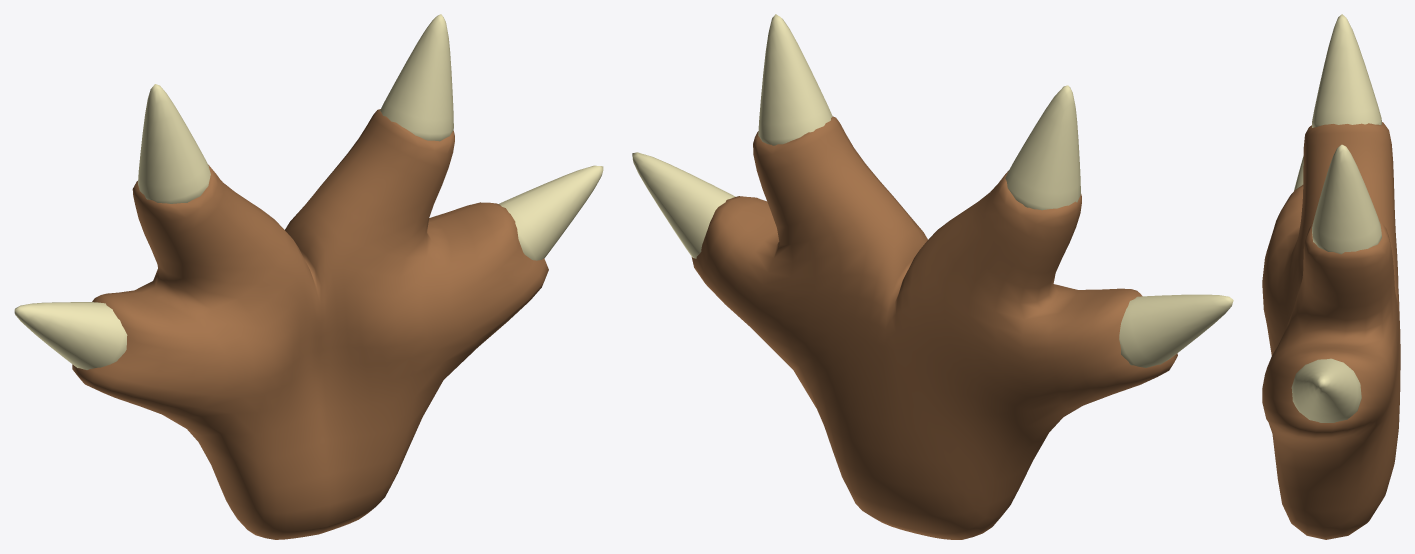
File: Clawed Martyr.fbx
3 views of the same model, side by side, from view 1: azimuth 30°, elevation 25°; view 2: azimuth 150°, elevation 25°; view 3: azimuth 270°, elevation 25° (orthographic). The views are drawn at different scales.
Parts seen in each view (by area): view 1: Clawed Martyr - Xotik; view 2: Clawed Martyr - Xotik; view 3: Clawed Martyr - Xotik.
Boxes of the visible parts, x1,y1,x2,y2 form: Clawed Martyr - Xotik: (14, 14, 603, 539); Clawed Martyr - Xotik: (632, 14, 1233, 539); Clawed Martyr - Xotik: (1262, 14, 1400, 539).
Bounding box in the file's own units: 106 × 81.44 × 22.94.
